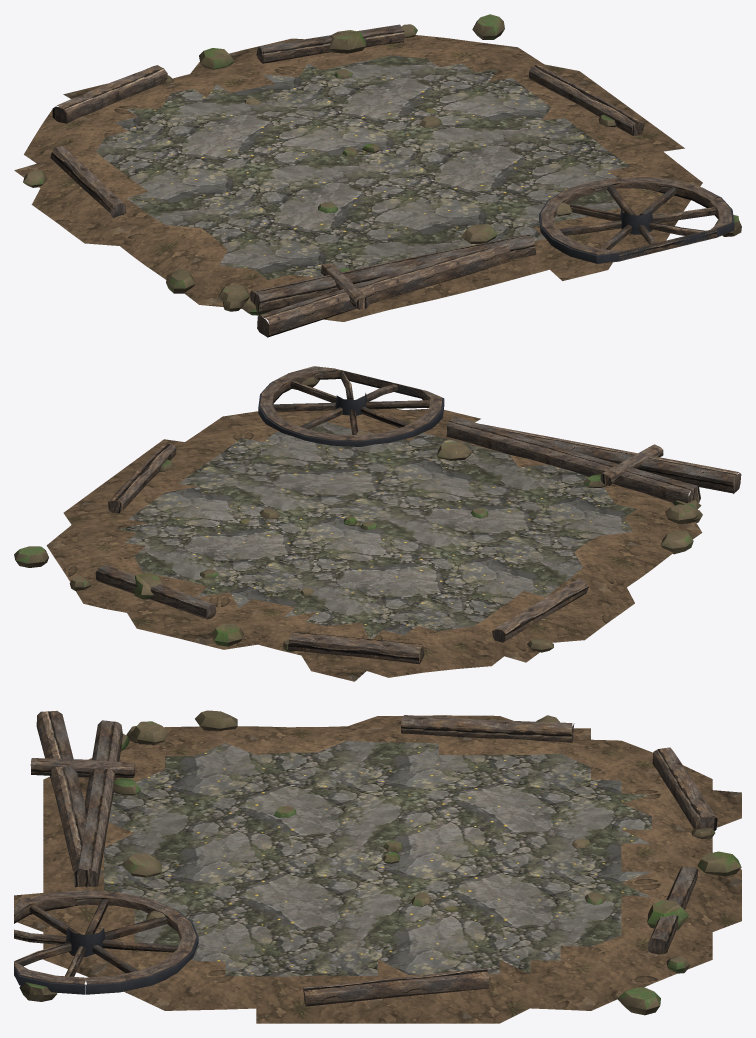
Rendered from gold_mine_collapsed.glb.
The picture shows the model from 3 angles, top to bottom: view 1: azimuth 30°, elevation 25°; view 2: azimuth 150°, elevation 25°; view 3: azimuth 270°, elevation 25°; orthographic projection. The views are drawn at different scales.
Visible parts, largest first — view 1: gold_mine_collapsed; view 2: gold_mine_collapsed; view 3: gold_mine_collapsed.
Boxes of the visible parts, <box> form: gold_mine_collapsed: <box>14,14,741,337</box>; gold_mine_collapsed: <box>14,366,741,681</box>; gold_mine_collapsed: <box>14,710,741,1023</box>.
Bounding box in the file's own units: 5.98 × 0.2982 × 5.98.
Materials: 2 (2 with a texture image).
